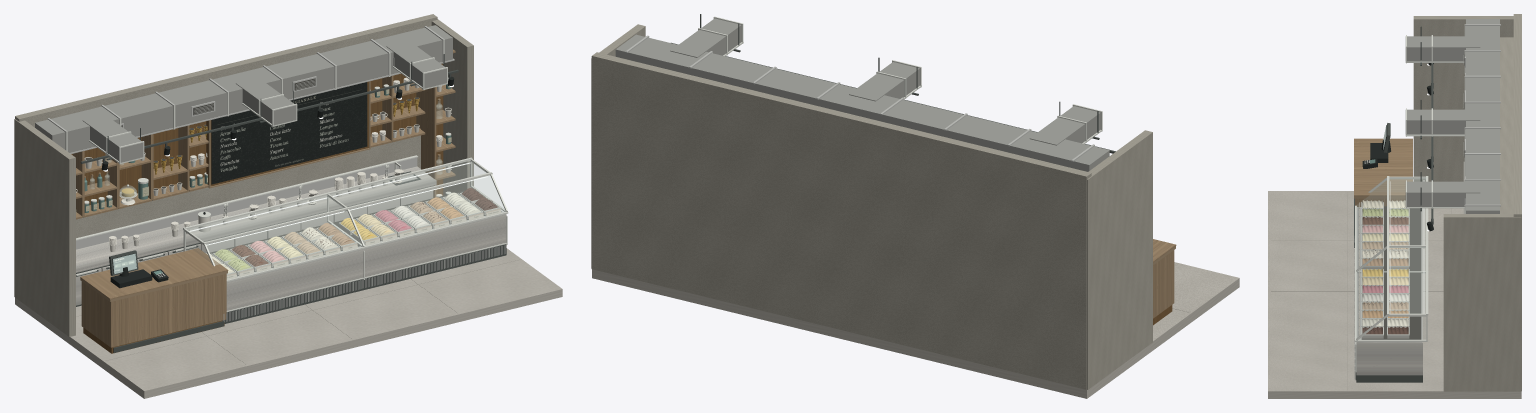
File: gelato-shop.glb
3 renders of one model, left to right at view 1: azimuth 30°, elevation 25°; view 2: azimuth 150°, elevation 25°; view 3: azimuth 270°, elevation 25°, orthographic. The views are drawn at different scales.
Parts seen in each view (by area): view 1: 01 Concrete shell, 26 Exposed ventilation, 09 Display glass, 08 Gelato display cabinets, 02 Back preparation counter, 04 Oak display shelving, 03 Oak checkout, 06 Chalkboard menu, 07 Serving accessories, 27 Ceiling track lighting, 05 Cone and cup display, 18 Mango gelato (+14 smaller); view 2: 01 Concrete shell, 26 Exposed ventilation, 03 Oak checkout; view 3: 01 Concrete shell, 26 Exposed ventilation, 09 Display glass, 08 Gelato display cabinets, 03 Oak checkout, 25 Dark chocolate gelato, 17 Coffee gelato, 27 Ceiling track lighting, 11 Pistachio gelato, 22 Tiramisu gelato, 12 Chocolate gelato, 13 Strawberry gelato (+10 smaller).
Part boxes in pixels (x1,y1,x2,y2): 01 Concrete shell: (14, 14, 562, 398); 26 Exposed ventilation: (35, 25, 454, 163); 09 Display glass: (183, 157, 507, 279); 08 Gelato display cabinets: (207, 190, 508, 323); 02 Back preparation counter: (76, 155, 436, 306); 04 Oak display shelving: (71, 49, 455, 219); 03 Oak checkout: (80, 248, 228, 353); 06 Chalkboard menu: (206, 81, 370, 188); 07 Serving accessories: (109, 164, 403, 251); 27 Ceiling track lighting: (80, 69, 458, 171); 05 Cone and cup display: (189, 121, 208, 191); 18 Mango gelato: (338, 218, 380, 245); 01 Concrete shell: (591, 24, 1239, 398); 26 Exposed ventilation: (615, 14, 1109, 171); 03 Oak checkout: (1153, 239, 1176, 325); 01 Concrete shell: (1268, 14, 1521, 398); 26 Exposed ventilation: (1405, 19, 1500, 213); 09 Display glass: (1356, 176, 1428, 341); 08 Gelato display cabinets: (1354, 205, 1422, 382); 03 Oak checkout: (1354, 123, 1412, 247); 25 Dark chocolate gelato: (1358, 326, 1409, 338); 17 Coffee gelato: (1358, 258, 1409, 268); 27 Ceiling track lighting: (1427, 63, 1433, 231); 11 Pistachio gelato: (1358, 207, 1409, 220); 22 Tiramisu gelato: (1358, 300, 1409, 313); 12 Chocolate gelato: (1358, 215, 1409, 228); 13 Strawberry gelato: (1358, 225, 1409, 236).
Bounding box in the file's own units: 10.14 × 4.51 × 5.41.
60 materials, 24 textured.
